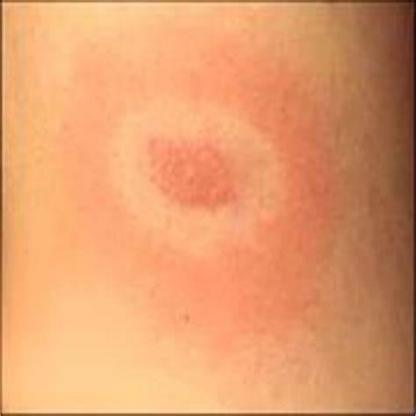Tick: (60, 25, 341, 344)
